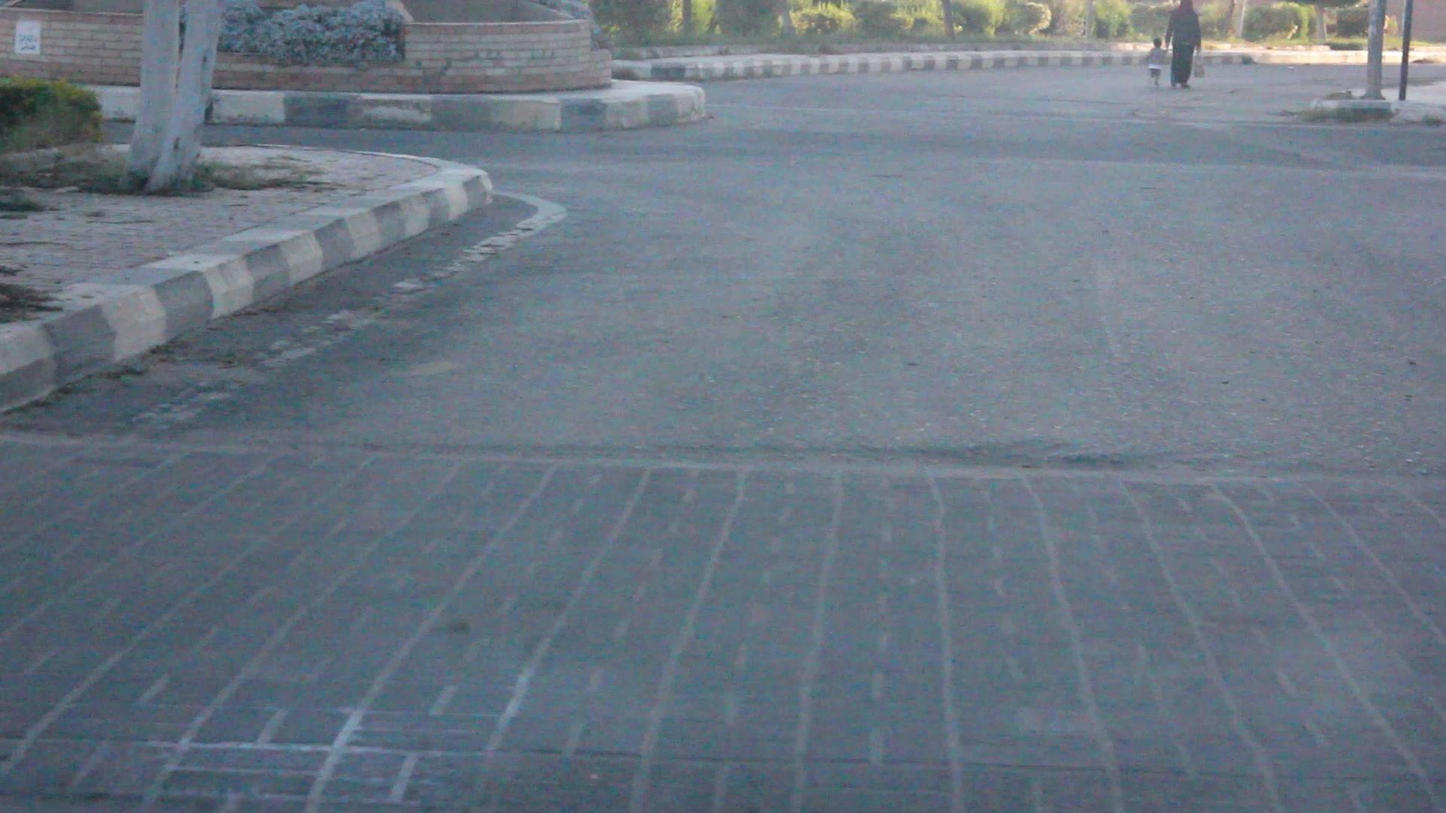Bump: (6, 413, 1445, 812)
